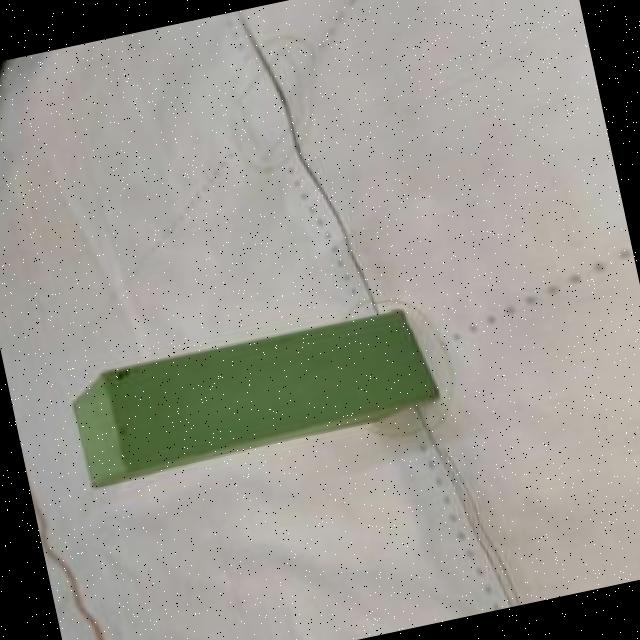greenbox: (59, 290, 448, 492)
